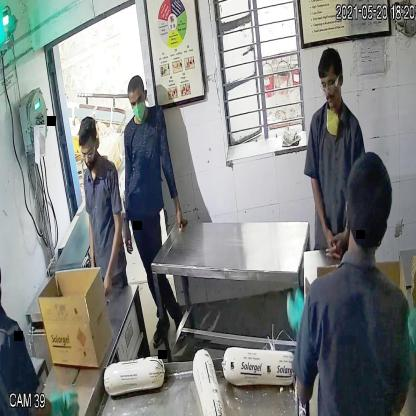goggles: (319, 76, 341, 94), (78, 147, 98, 162)
no_goggles: (127, 94, 148, 109)
